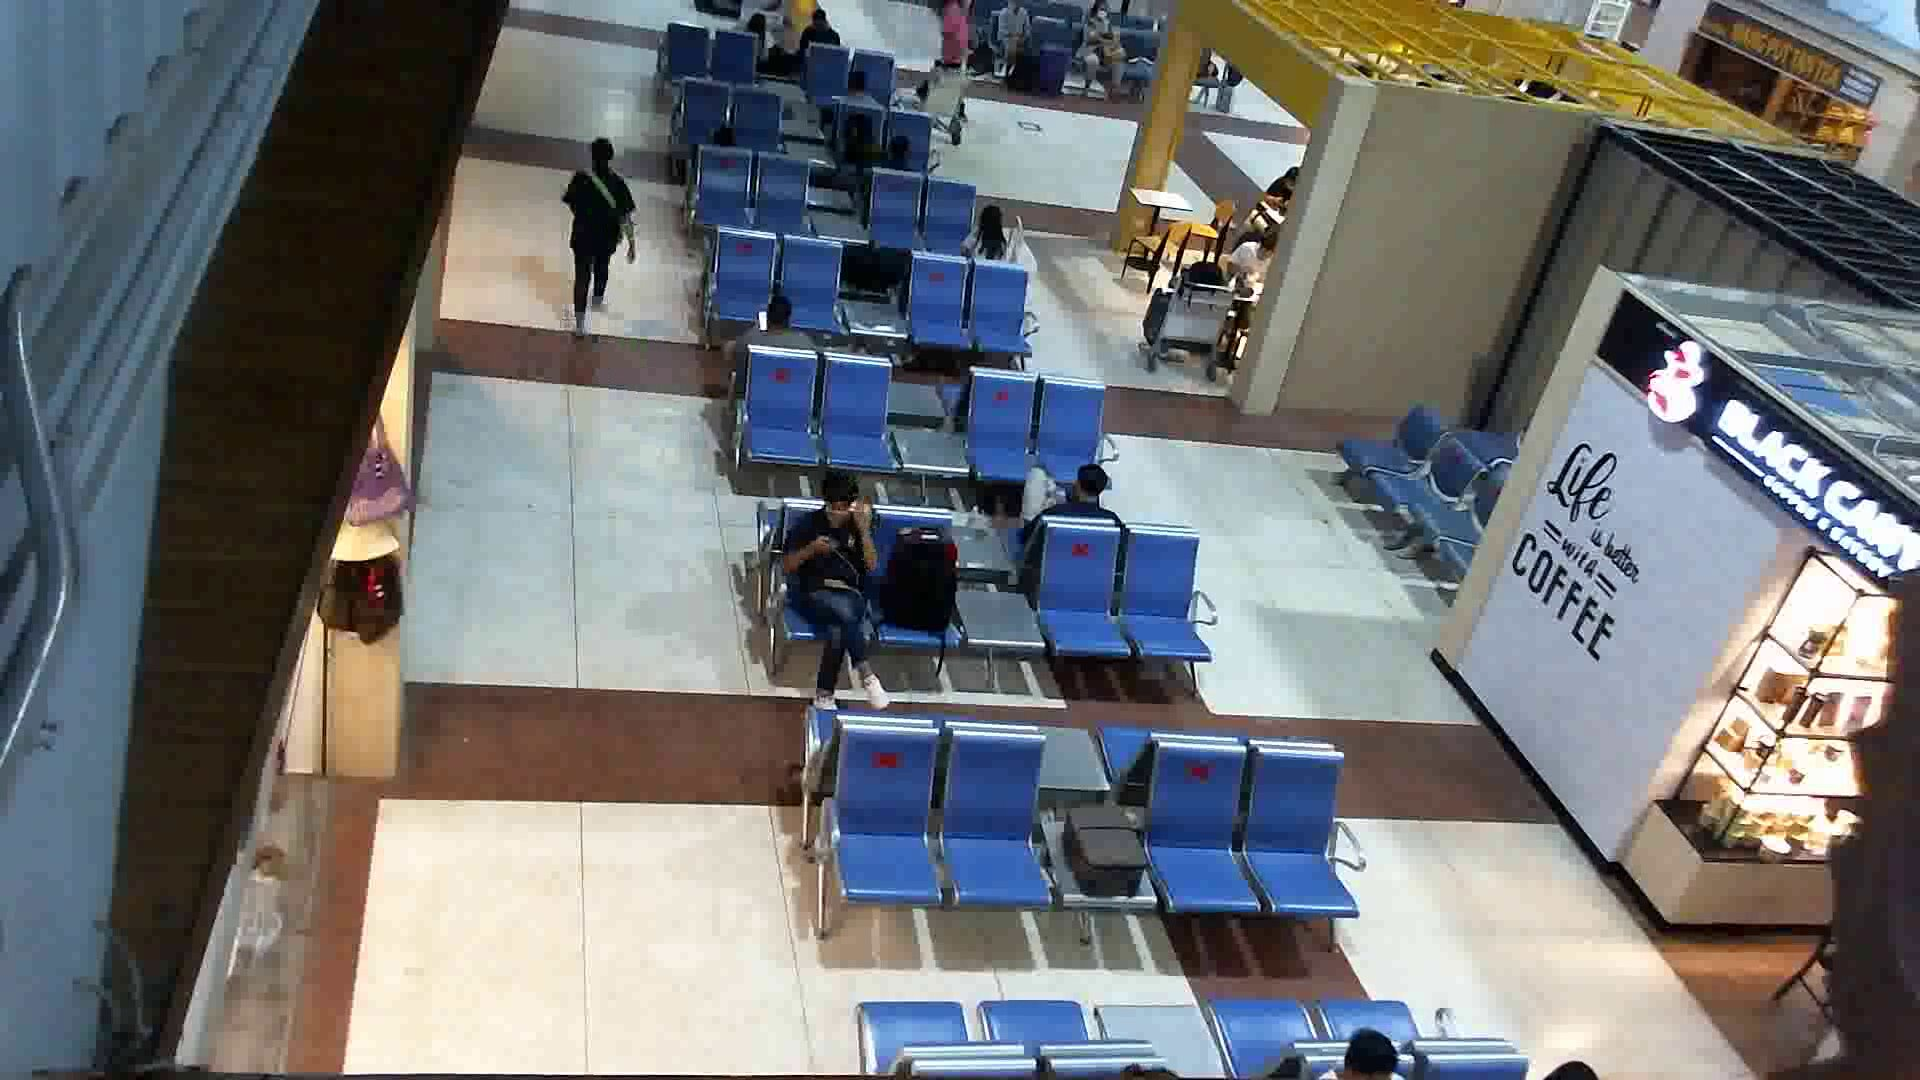luggage: (871, 520, 971, 654), (1055, 798, 1168, 905)
people: (778, 479, 896, 736), (557, 143, 652, 324), (1010, 465, 1133, 540)
